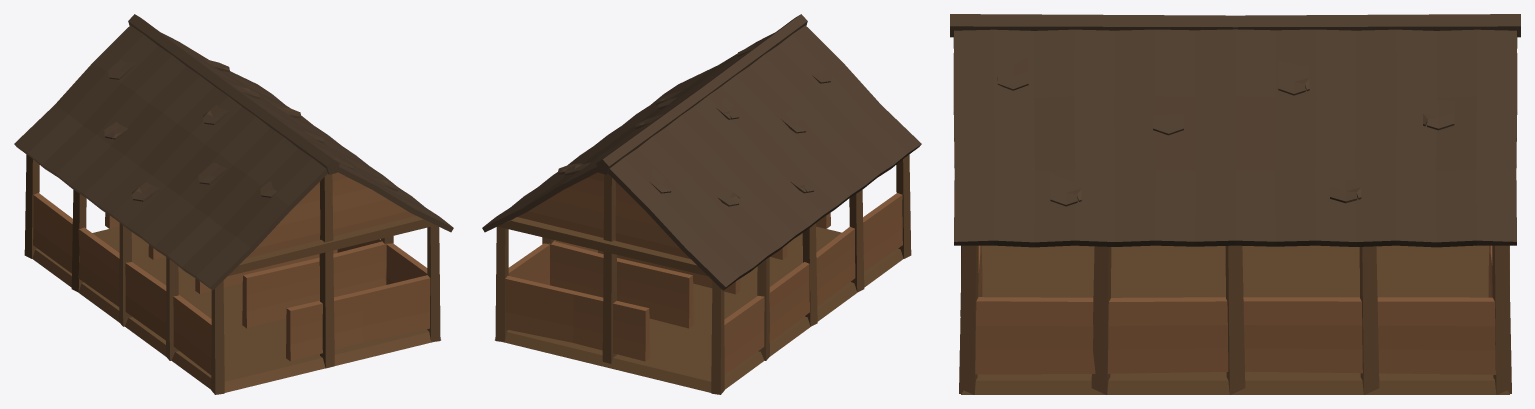
File: stables-medieval.fbx
3 views of the same model, side by side, from view 1: azimuth 30°, elevation 25°; view 2: azimuth 150°, elevation 25°; view 3: azimuth 270°, elevation 25° (orthographic). The views are drawn at different scales.
Parts seen in each view (by area): view 1: stables-medieval; view 2: stables-medieval; view 3: stables-medieval.
Part boxes in pixels (box(x1,y1,x2,y2)): stables-medieval: box(14, 14, 453, 394); stables-medieval: box(482, 14, 921, 394); stables-medieval: box(950, 14, 1520, 394).
Size of the model in its own units: 5.98 by 4.93 by 8.43.
